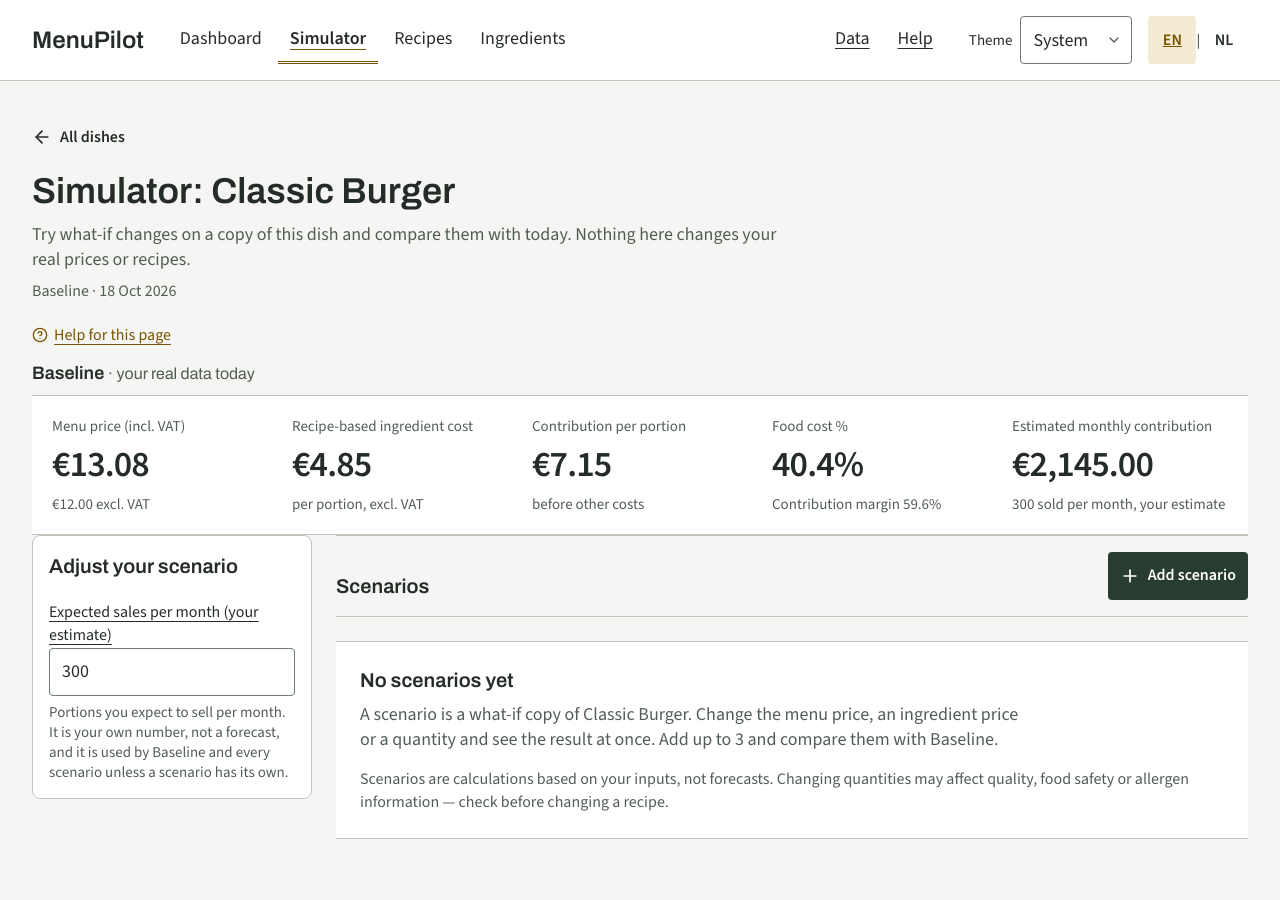
Test: Baseline › uses the revised estimate hint in English and Dutch
Check: the heading "Simulator: Classic Burger" is shown, box [32,171,455,211]
Clear the field named "Expected sales per month (your estimate)" at (172, 672), box [49,648,295,696]
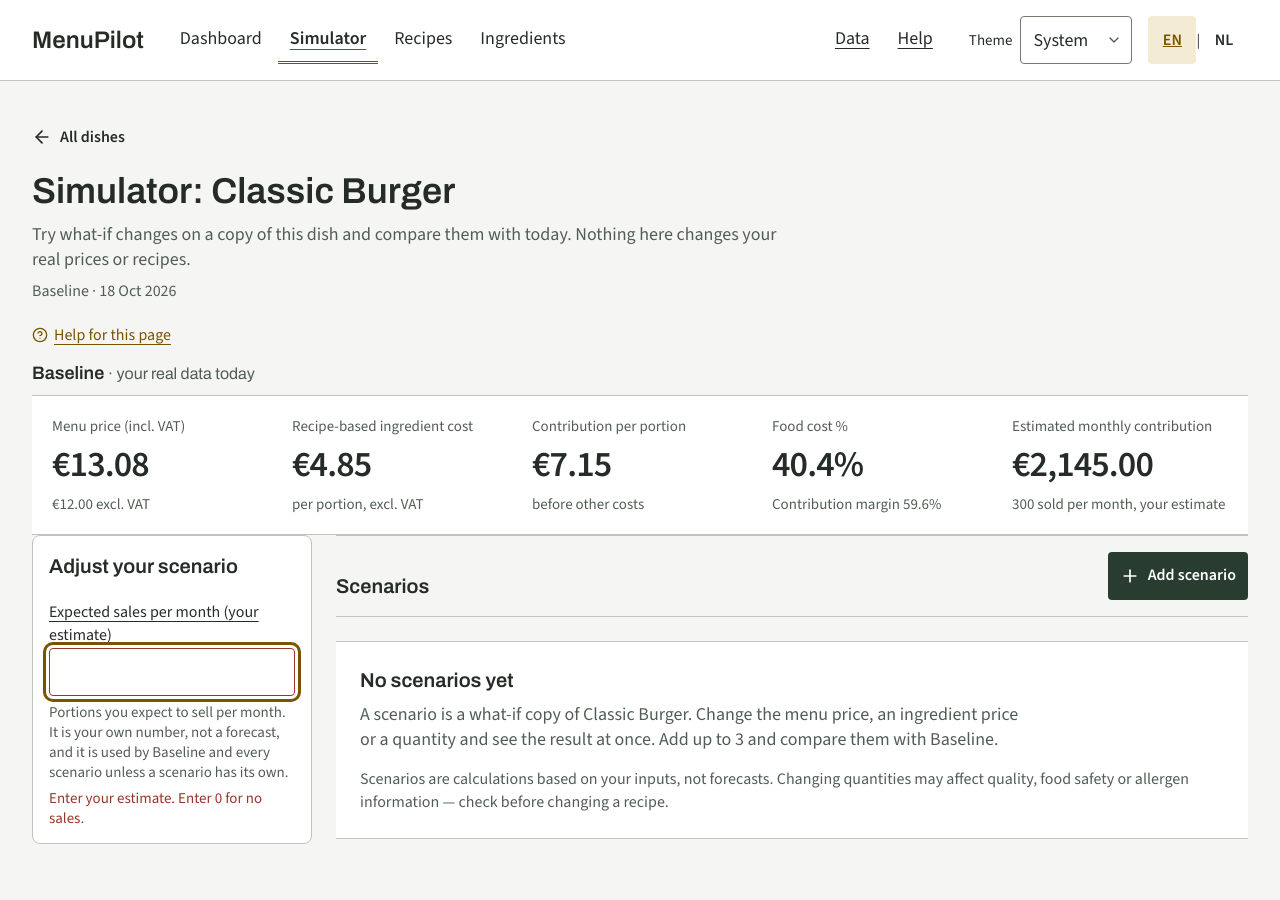
Check: the text "Enter your estimate. Enter 0 for no sales." is shown, box [49,788,295,828]
Click the button with aria-label "NL – Nederlands".
click(1224, 40)  # box [1200,16,1248,64]
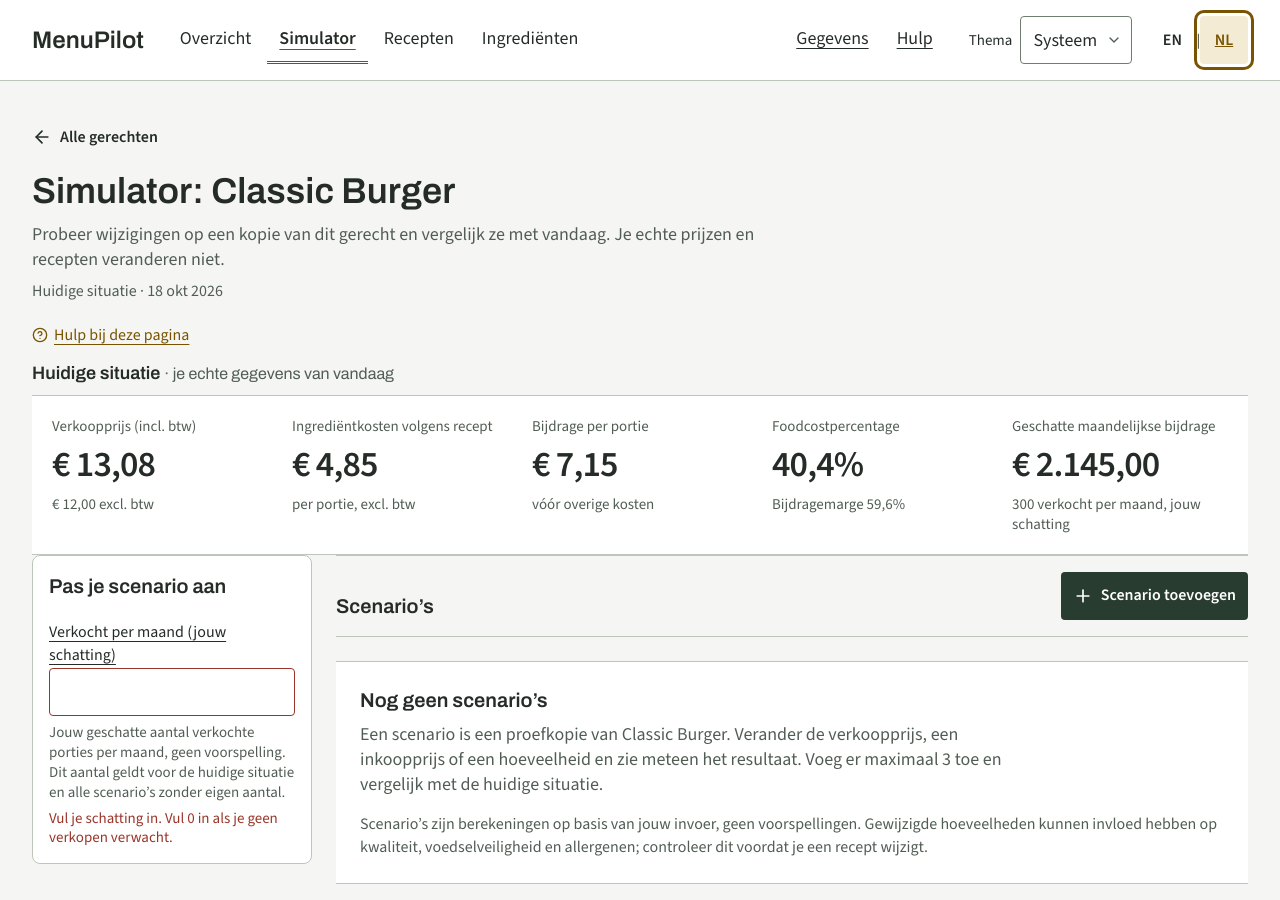
Check: the text "Vul je schatting in. Vul 0 in als je geen verkopen verwacht." is shown, box [49,808,295,848]
